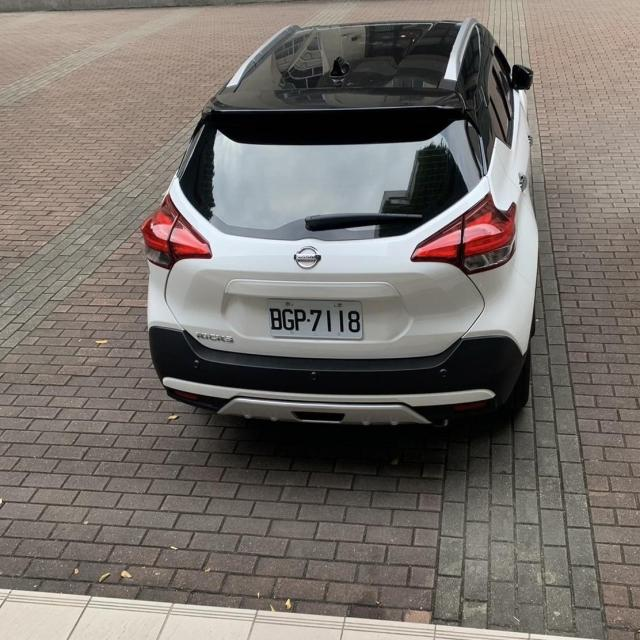W: (264, 298, 368, 342)
